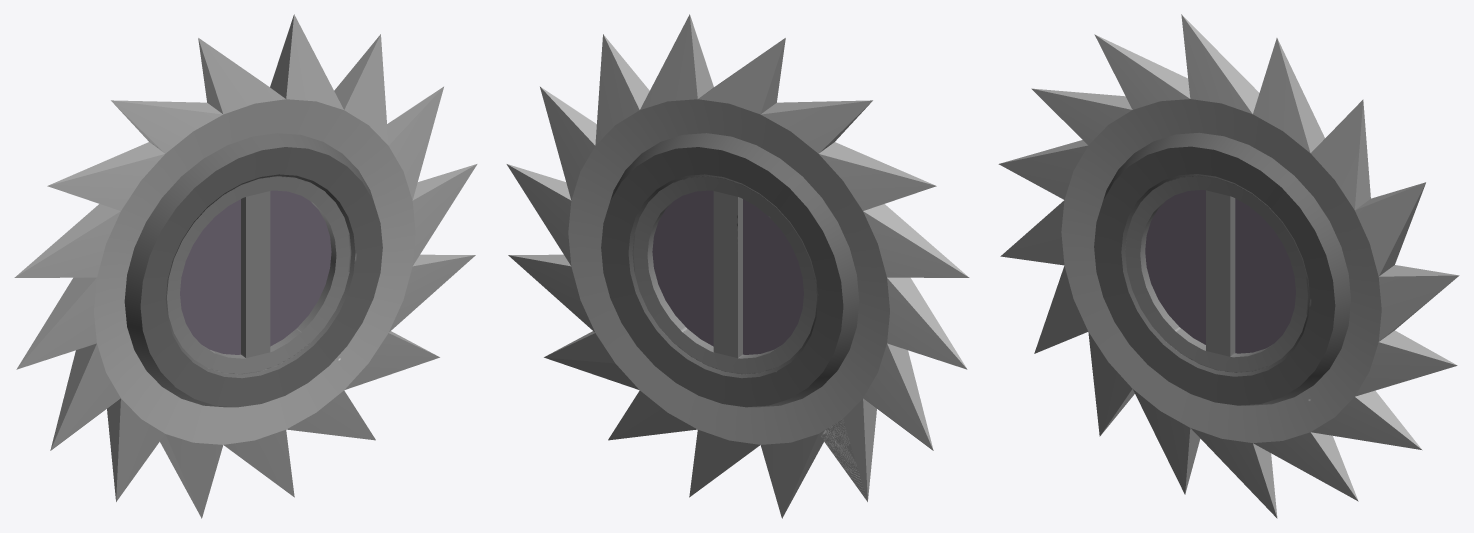
The model's file is metalBladeMegaKart(22-03-25).fbx.
3 renders of one model, left to right at view 1: azimuth 30°, elevation 25°; view 2: azimuth 150°, elevation 25°; view 3: azimuth 330°, elevation 25°, orthographic.
Visible parts, largest first — view 1: Cylinder; view 2: Cylinder; view 3: Cylinder.
Part boxes in pixels (x1=…): Cylinder: x1=14, y1=14, x2=477, y2=518; Cylinder: x1=506, y1=14, x2=969, y2=518; Cylinder: x1=998, y1=14, x2=1459, y2=518.
Bounding box in the file's own units: 356 × 355 × 40.09.
1 material, 1 textured.
